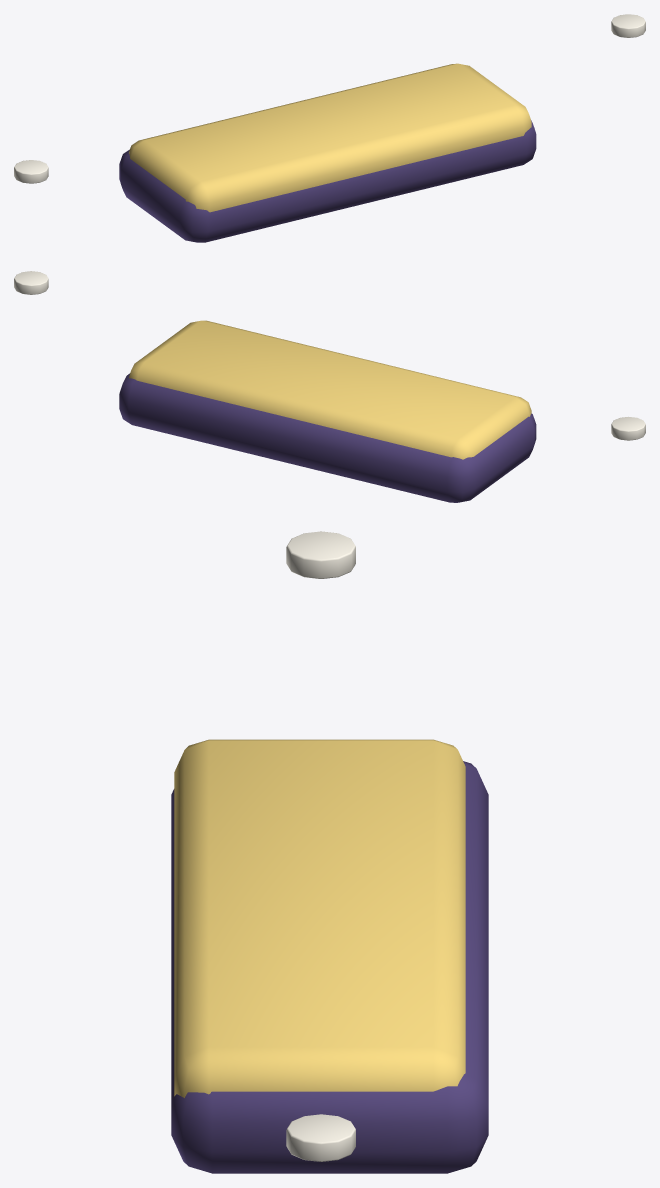
File: music_bar_2.glb
The picture shows the model from 3 angles, top to bottom: view 1: azimuth 30°, elevation 25°; view 2: azimuth 150°, elevation 25°; view 3: azimuth 270°, elevation 25°; orthographic projection. The views are drawn at different scales.
Parts seen in each view (by area): view 1: PaintedKey.002, InkKey.002, PearlPin_-1.002, PearlPin_1.002; view 2: PaintedKey.002, InkKey.002, PearlPin_1.002, PearlPin_-1.002; view 3: PaintedKey.002, InkKey.002, PearlPin_1.002, PearlPin_-1.002.
Boxes of the visible parts, x1,y1,x2,y2 form: PaintedKey.002: [129, 63, 531, 212]; InkKey.002: [119, 120, 536, 242]; PearlPin_-1.002: [14, 160, 48, 183]; PearlPin_1.002: [611, 14, 645, 37]; PaintedKey.002: [129, 320, 531, 459]; InkKey.002: [119, 373, 536, 502]; PearlPin_1.002: [14, 271, 48, 294]; PearlPin_-1.002: [611, 417, 645, 440]; PaintedKey.002: [174, 739, 465, 1097]; InkKey.002: [171, 761, 488, 1173]; PearlPin_1.002: [286, 1114, 355, 1161]; PearlPin_-1.002: [286, 531, 355, 578].
Size of the model in its own units: 6.66 by 0.9125 by 1.46.
